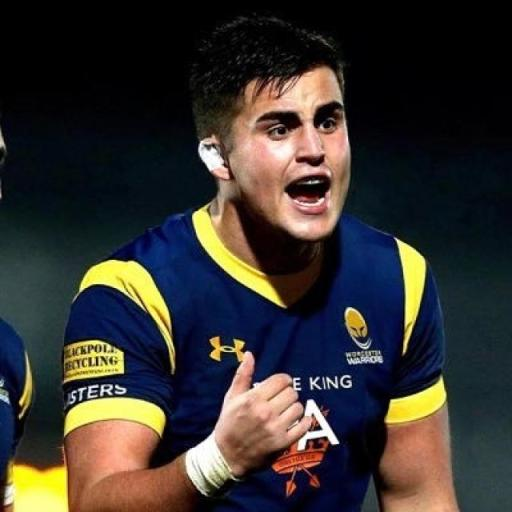Under Armour: (205, 332, 251, 366)
